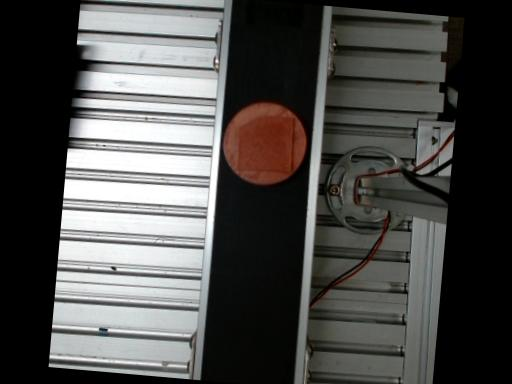Brown_Waper: (222, 101, 307, 184)
Not_Square: (235, 115, 294, 172)
